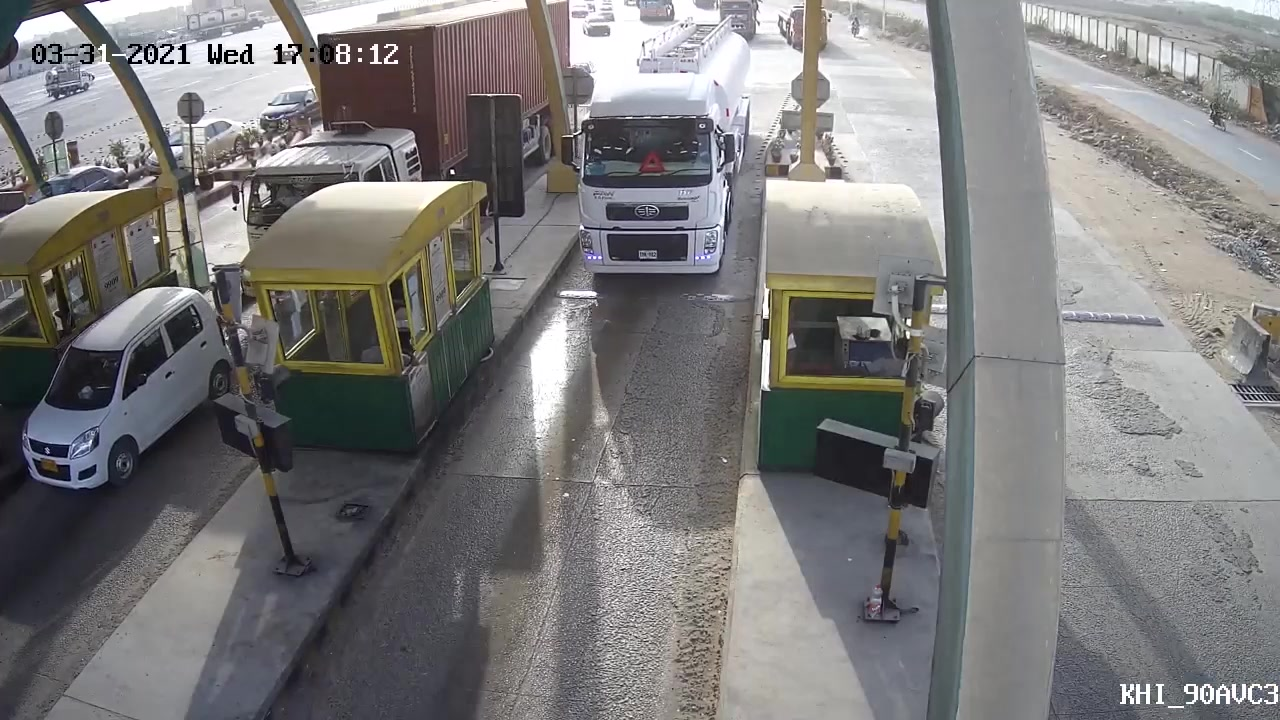F6: (553, 18, 761, 286)
